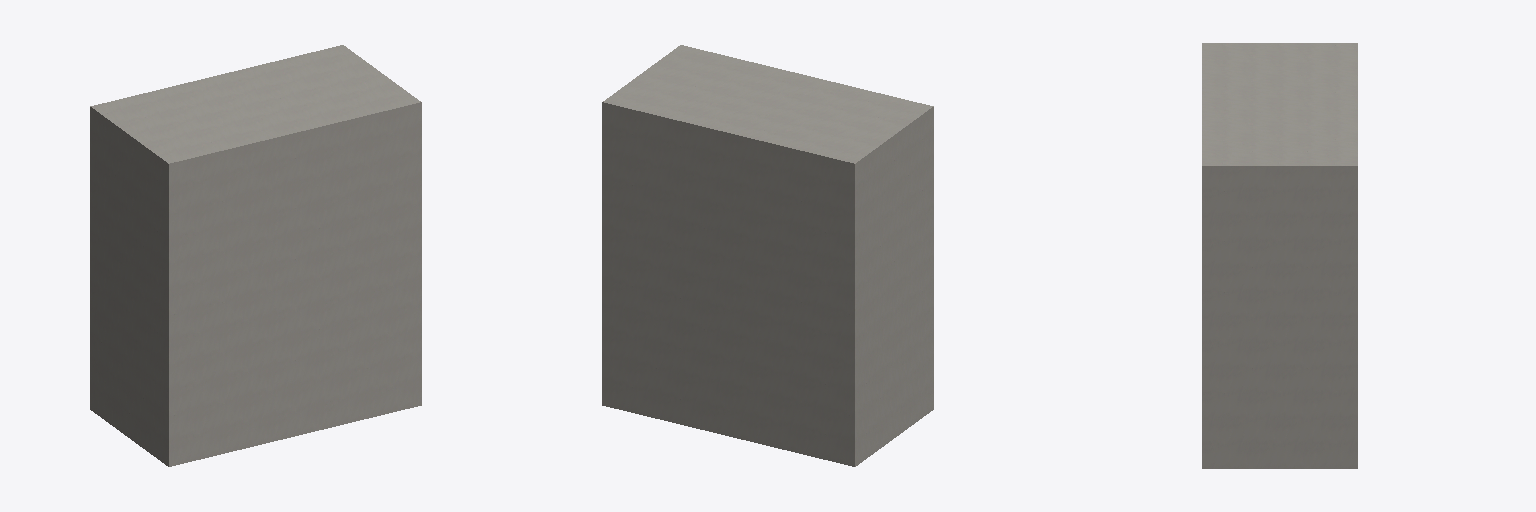
3 views of the same model, side by side, from view 1: azimuth 30°, elevation 25°; view 2: azimuth 150°, elevation 25°; view 3: azimuth 270°, elevation 25° (orthographic).
Parts seen in each view (by area): view 1: Box011; view 2: Box011; view 3: Box011.
Boxes of the visible parts, box(x1,y1,x2,y2) form: Box011: box(90, 45, 421, 466); Box011: box(602, 45, 933, 466); Box011: box(1202, 43, 1357, 468).
Bounding box in the file's own units: 103 × 118 × 55.36.
Materials: 1 (1 with a texture image).